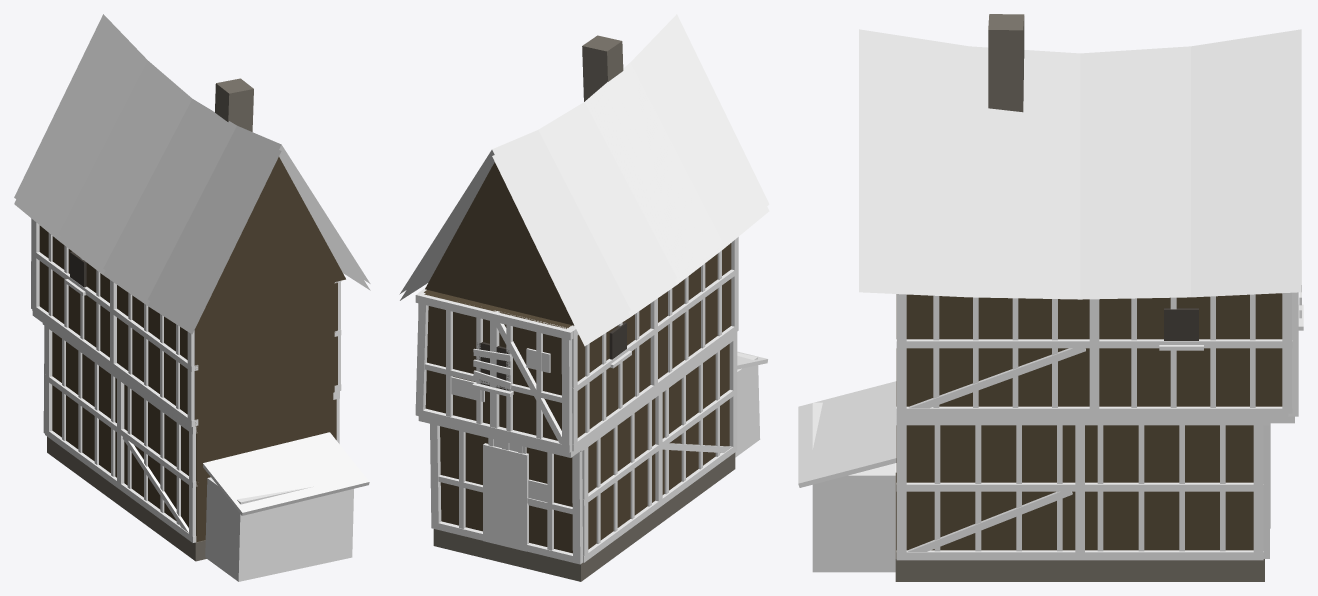
The model's file is house_narrow_poor_b.glb.
3 views of the same model, side by side, from view 1: azimuth 30°, elevation 25°; view 2: azimuth 150°, elevation 25°; view 3: azimuth 270°, elevation 25° (orthographic). The views are drawn at different scales.
Parts seen in each view (by area): view 1: house_narrow_poor_b; view 2: house_narrow_poor_b; view 3: house_narrow_poor_b.
Part boxes in pixels (<box>): house_narrow_poor_b: <box>14,14,370,581</box>; house_narrow_poor_b: <box>399,14,769,581</box>; house_narrow_poor_b: <box>798,14,1303,581</box>.
Bounding box in the file's own units: 4.02 × 9.13 × 7.94.
